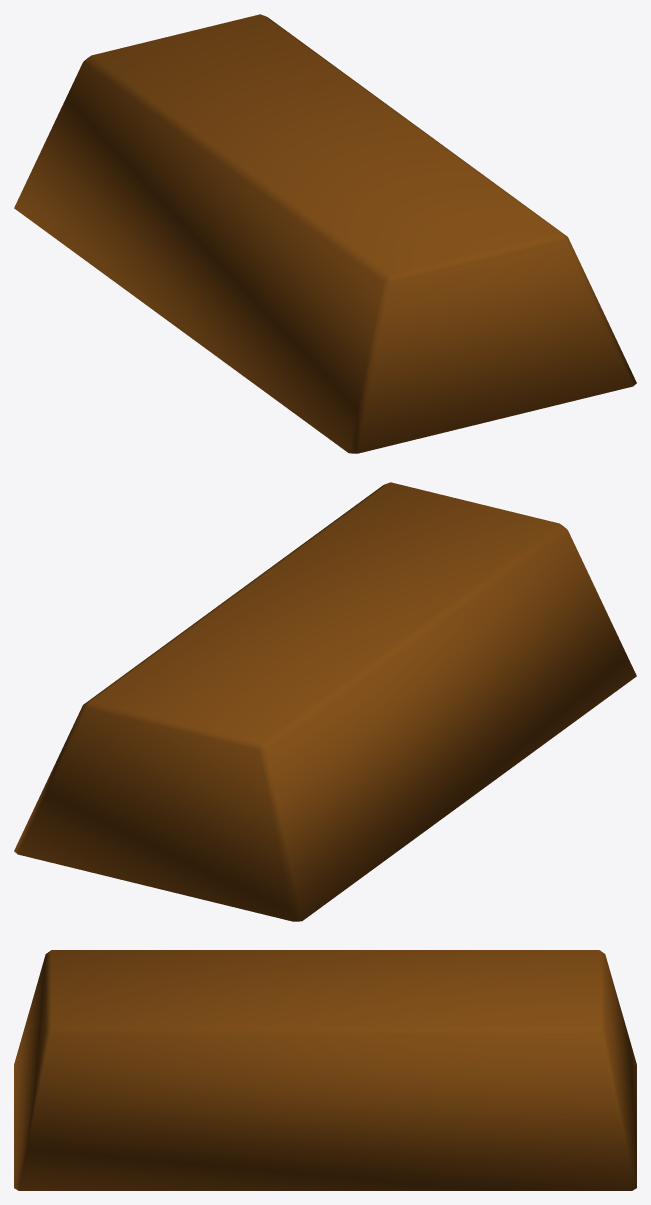
Rendered from bronzeIngot.glb.
3 views of the same model, one above another, from view 1: azimuth 30°, elevation 25°; view 2: azimuth 150°, elevation 25°; view 3: azimuth 270°, elevation 25° (orthographic). The views are drawn at different scales.
Parts seen in each view (by area): view 1: Cube; view 2: Cube; view 3: Cube.
Boxes of the visible parts, <box> form: Cube: <box>14,14,636,453</box>; Cube: <box>14,482,636,921</box>; Cube: <box>14,950,636,1190</box>.
Size of the model in its own units: 0.1207 by 0.0605 by 0.2466.
